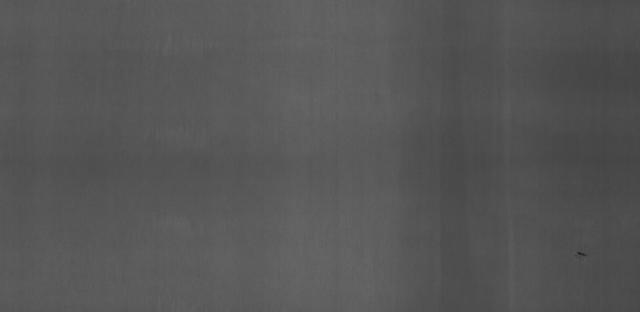inclusion: (570, 246, 598, 264)
